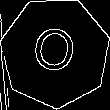O_S: (30, 23, 81, 82)
